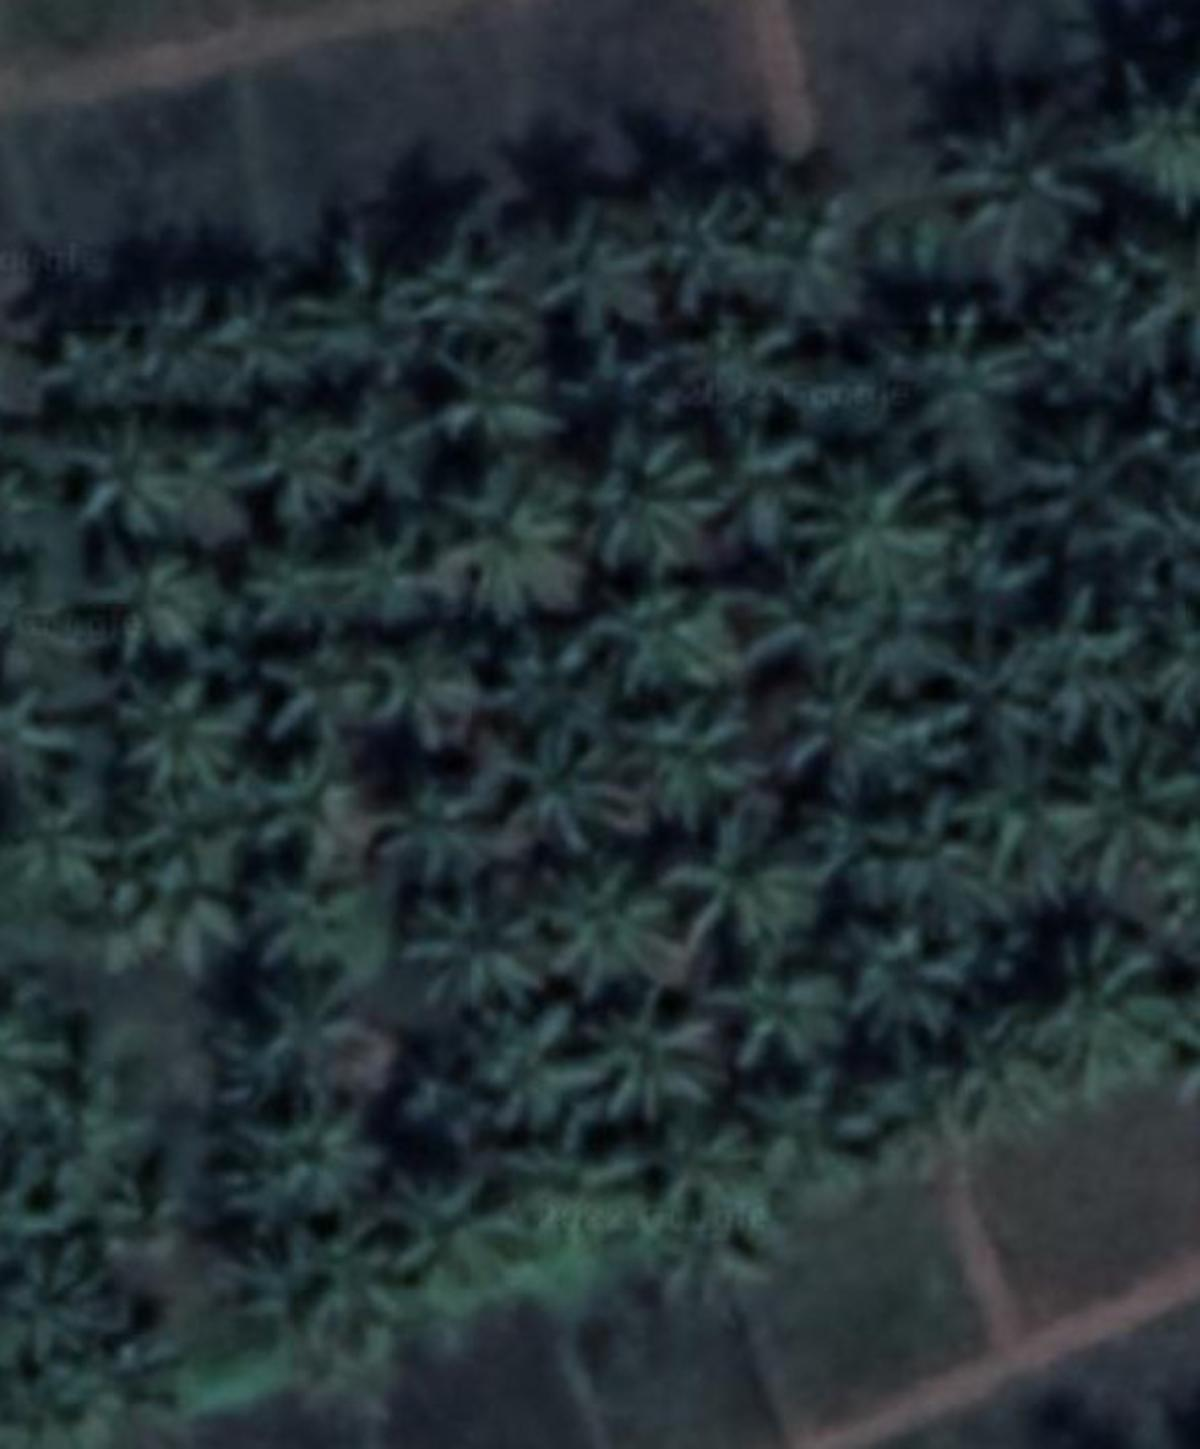coconut: (731, 183, 900, 336), (883, 304, 1034, 475), (926, 116, 1087, 267), (773, 446, 948, 581), (564, 428, 725, 570), (430, 1003, 589, 1142), (763, 669, 912, 816), (426, 459, 577, 604), (573, 579, 740, 706), (675, 824, 826, 963), (1019, 924, 1155, 1074), (232, 842, 385, 975), (426, 342, 583, 469), (837, 924, 985, 1059), (394, 883, 551, 1010), (534, 195, 667, 338), (948, 734, 1084, 873), (571, 978, 701, 1122), (708, 944, 844, 1080), (93, 834, 227, 971), (646, 183, 773, 329), (289, 246, 408, 400), (234, 1086, 365, 1222), (632, 702, 761, 836), (489, 706, 617, 840), (389, 1181, 524, 1308), (55, 426, 200, 544), (77, 548, 220, 666), (230, 746, 363, 873), (236, 965, 382, 1081), (367, 632, 497, 761), (112, 681, 236, 814), (404, 238, 540, 357), (2, 1236, 118, 1373), (638, 1108, 761, 1236), (538, 867, 654, 1000), (238, 412, 367, 530), (255, 646, 377, 769), (236, 536, 370, 644), (214, 286, 332, 397), (116, 280, 224, 400), (371, 767, 481, 863), (34, 326, 142, 424)
